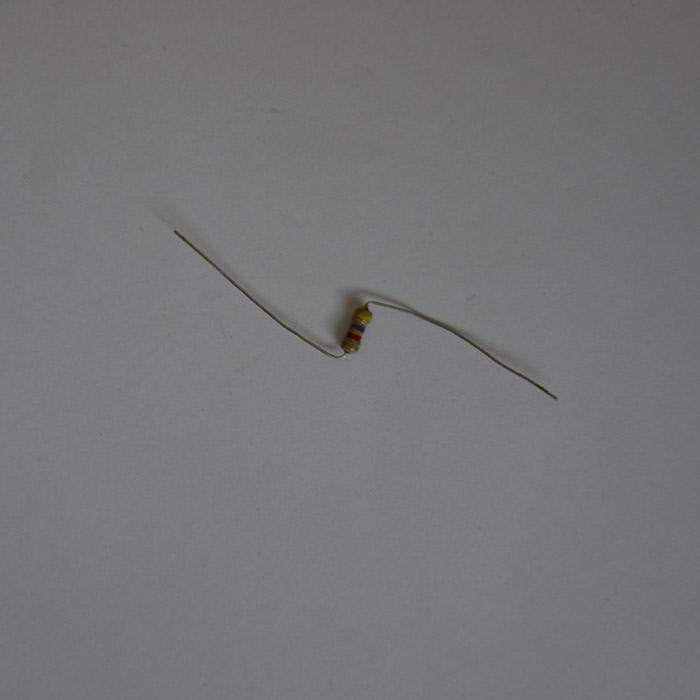resistor: (339, 304, 375, 356)
